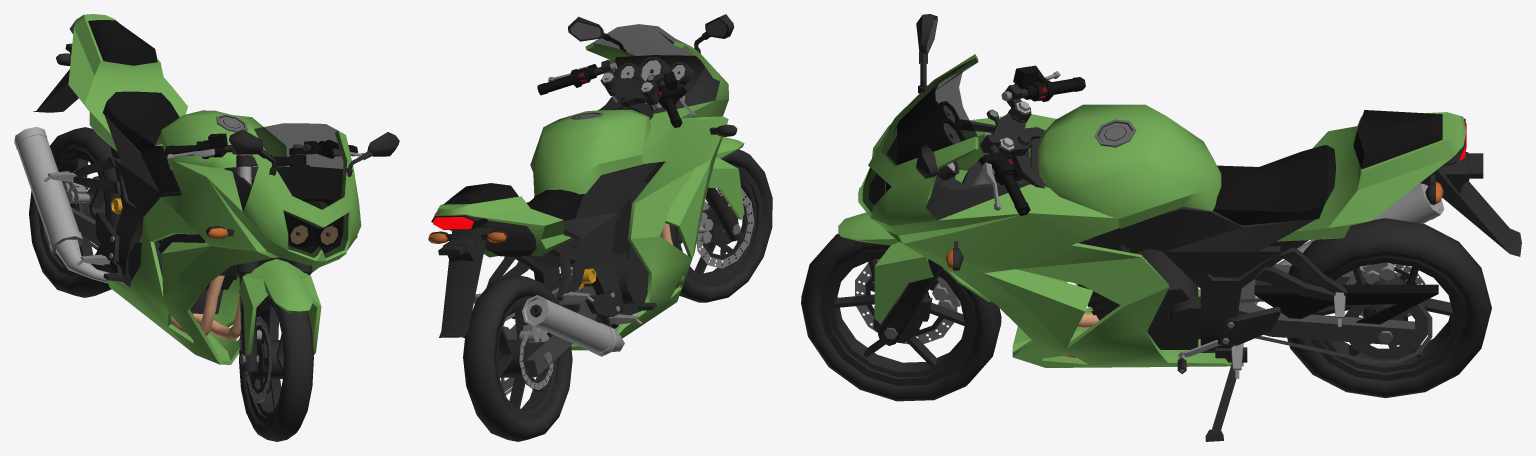
The model's file is mod1.glb.
3 views of the same model, side by side, from view 1: azimuth 30°, elevation 25°; view 2: azimuth 150°, elevation 25°; view 3: azimuth 270°, elevation 25° (orthographic). The views are drawn at different scales.
Parts seen in each view (by area): view 1: bem2_ninja250r_0, bem2_ninja250r_w_f_7, bem2_ninja250r_str_6, bem2_ninja250r_w_r_3, bem2_ninja250r_swingarm_2, bem2_ninja250r_hl_1; view 2: bem2_ninja250r_0, bem2_ninja250r_w_r_3, bem2_ninja250r_w_f_7, bem2_ninja250r_str_6, bem2_ninja250r_swingarm_2, bem2_ninja250r_hl_1; view 3: bem2_ninja250r_0, bem2_ninja250r_w_r_3, bem2_ninja250r_w_f_7, bem2_ninja250r_str_6, bem2_ninja250r_swingarm_2, bem2_ninja250r_kickstand_4.
Boxes of the visible parts, box(x1,y1,x2,y2) form: bem2_ninja250r_0: box(14, 14, 399, 364); bem2_ninja250r_w_f_7: box(239, 295, 313, 441); bem2_ninja250r_str_6: box(165, 133, 363, 371); bem2_ninja250r_w_r_3: box(29, 127, 120, 297); bem2_ninja250r_swingarm_2: box(63, 176, 142, 249); bem2_ninja250r_hl_1: box(291, 225, 337, 244); bem2_ninja250r_0: box(428, 14, 737, 356); bem2_ninja250r_w_r_3: box(463, 275, 572, 441); bem2_ninja250r_w_f_7: box(669, 149, 772, 302); bem2_ninja250r_str_6: box(537, 59, 744, 243); bem2_ninja250r_swingarm_2: box(463, 286, 597, 395); bem2_ninja250r_hl_1: box(433, 217, 473, 229); bem2_ninja250r_0: box(858, 14, 1521, 378); bem2_ninja250r_w_r_3: box(1287, 218, 1491, 398); bem2_ninja250r_w_f_7: box(801, 233, 1001, 401); bem2_ninja250r_str_6: box(838, 65, 1085, 345); bem2_ninja250r_swingarm_2: box(1237, 262, 1438, 363); bem2_ninja250r_kickstand_4: box(1205, 351, 1244, 441).
Bounding box in the file's own units: 0.8133 × 1.17 × 2.05.
Materials: 6 (2 with a texture image).
